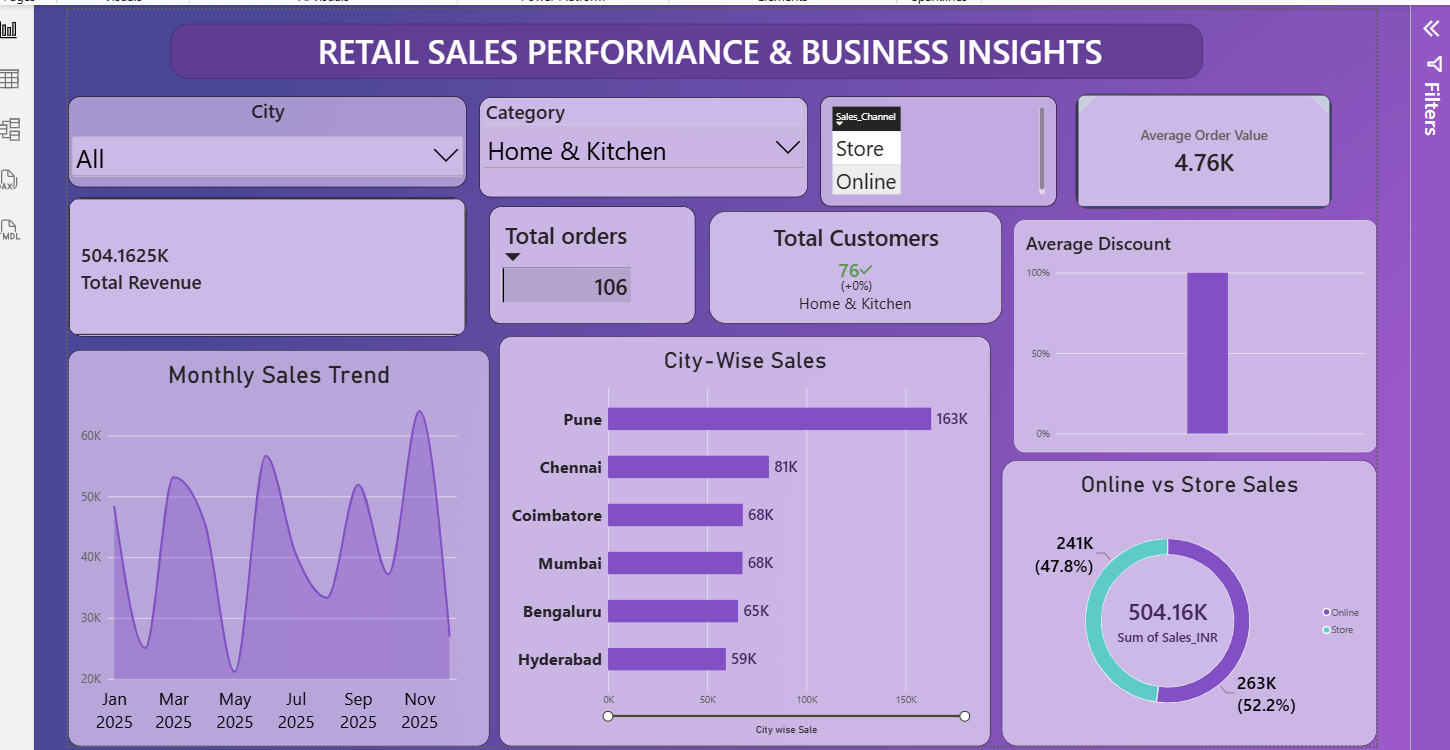

What the dashboard file says about the page in this screenshot:
{"tool":"powerbi","page":{"name":"Sales Dashboard","canvas":[1920,1080],"ordinal":0},"visuals":[{"type":"cardVisual","fields":{"Data":["retail_sales_cleaned_powerbi. Total Revenue"]},"box":[0,275.1,585.1,203.6],"z":0},{"type":"hundredPercentStackedColumnChart","fields":{"Y":["retail_sales_cleaned_powerbi. Average Discount"]},"box":[1388.5,308.2,531.9,341.2],"z":1000},{"type":"cardVisual","fields":{"Data":["retail_sales_cleaned_powerbi. Average Order Value"]},"box":[1478.4,122.9,376,168.8],"z":2000},{"type":"kpi","title":"Total Customers","fields":{"Goal":["retail_sales_cleaned_powerbi.Total Customers"],"Indicator":["retail_sales_cleaned_powerbi.Total Customers"],"TrendLine":["retail_sales_cleaned_powerbi.Category"]},"box":[941,295.3,429.2,165.1],"z":3000},{"type":"slicer","fields":{"Values":["retail_sales_cleaned_powerbi.Category"]},"box":[603.5,128.4,482.4,146.7],"z":4000},{"type":"slicer","title":"City","fields":{"Values":["retail_sales_cleaned_powerbi.City"]},"box":[0,126.6,585.1,133.9],"z":5000},{"type":"tableEx","fields":{"Values":["retail_sales_cleaned_powerbi. total orders"]},"box":[618.1,288,302.7,172.4],"z":6000},{"type":"tableEx","fields":{"Values":["retail_sales_cleaned_powerbi.Sales_Channel"]},"box":[1104.2,126.6,346.7,161.4],"z":7000},{"type":"areaChart","title":"Monthly Sales Trend","fields":{"Category":["retail_sales_cleaned_powerbi.Order_Date.Variation.Date Hierarchy.Year","retail_sales_cleaned_powerbi.Order_Date.Variation.Date Hierarchy.Month"],"Y":["Sum(retail_sales_cleaned_powerbi.Sales_INR)"]},"box":[0,498.9,618.1,581.5],"z":8000},{"type":"clusteredBarChart","title":"City-Wise Sales","fields":{"Category":["retail_sales_cleaned_powerbi.City"],"Y":["Sum(retail_sales_cleaned_powerbi.Sales_INR)"]},"box":[632.8,478.7,720.9,601.6],"z":9000},{"type":"donutChart","title":"Online vs Store Sales","fields":{"Category":["retail_sales_cleaned_powerbi.Sales_Channel"],"Y":["Sum(retail_sales_cleaned_powerbi.Sales_INR)"]},"box":[1370.2,660.3,550.3,420],"z":10000},{"type":"textbox","box":[150.4,20.2,1515.1,80.7],"z":11000}]}

Visuals, with their boxes in screenshot pixels (x1, y1, x2, y2):
cardVisual - retail_sales_cleaned_powerbi. Total Revenue: <bbox>60, 193, 462, 332</bbox>
hundredPercentStackedColumnChart - retail_sales_cleaned_powerbi. Average Discount: <bbox>1013, 215, 1378, 449</bbox>
cardVisual - retail_sales_cleaned_powerbi. Average Order Value: <bbox>1075, 88, 1333, 204</bbox>
"Total Customers" kpi: <bbox>706, 206, 1001, 320</bbox>
slicer - retail_sales_cleaned_powerbi.Category: <bbox>475, 92, 806, 193</bbox>
"City" slicer: <bbox>60, 91, 462, 183</bbox>
tableEx - retail_sales_cleaned_powerbi. total orders: <bbox>485, 201, 692, 320</bbox>
tableEx - retail_sales_cleaned_powerbi.Sales_Channel: <bbox>818, 91, 1056, 201</bbox>
"Monthly Sales Trend" areaChart: <bbox>60, 346, 485, 745</bbox>
"City-Wise Sales" clusteredBarChart: <bbox>495, 332, 989, 745</bbox>
"Online vs Store Sales" donutChart: <bbox>1001, 457, 1378, 745</bbox>
textbox: <bbox>164, 18, 1203, 73</bbox>
